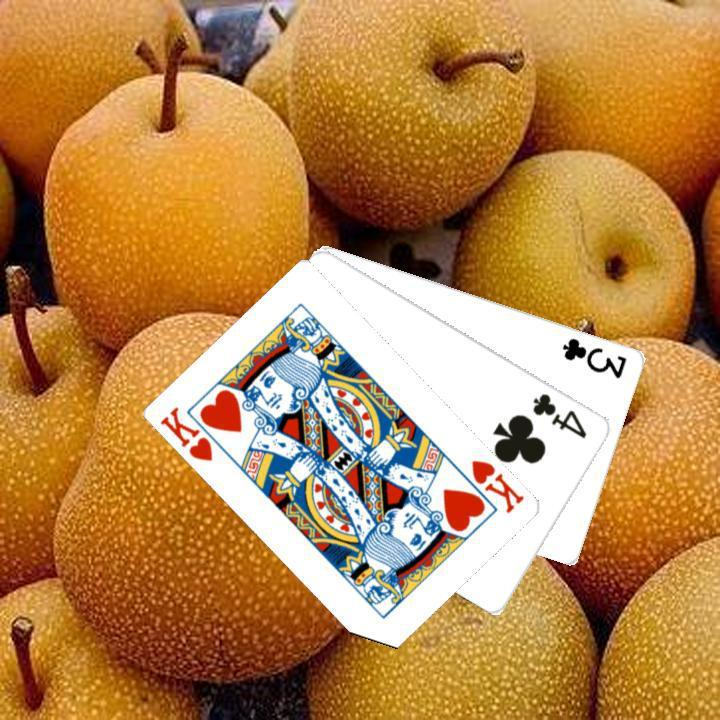3: (558, 333, 630, 380)
4: (528, 388, 589, 440)
K: (467, 455, 527, 516), (157, 402, 216, 464)
